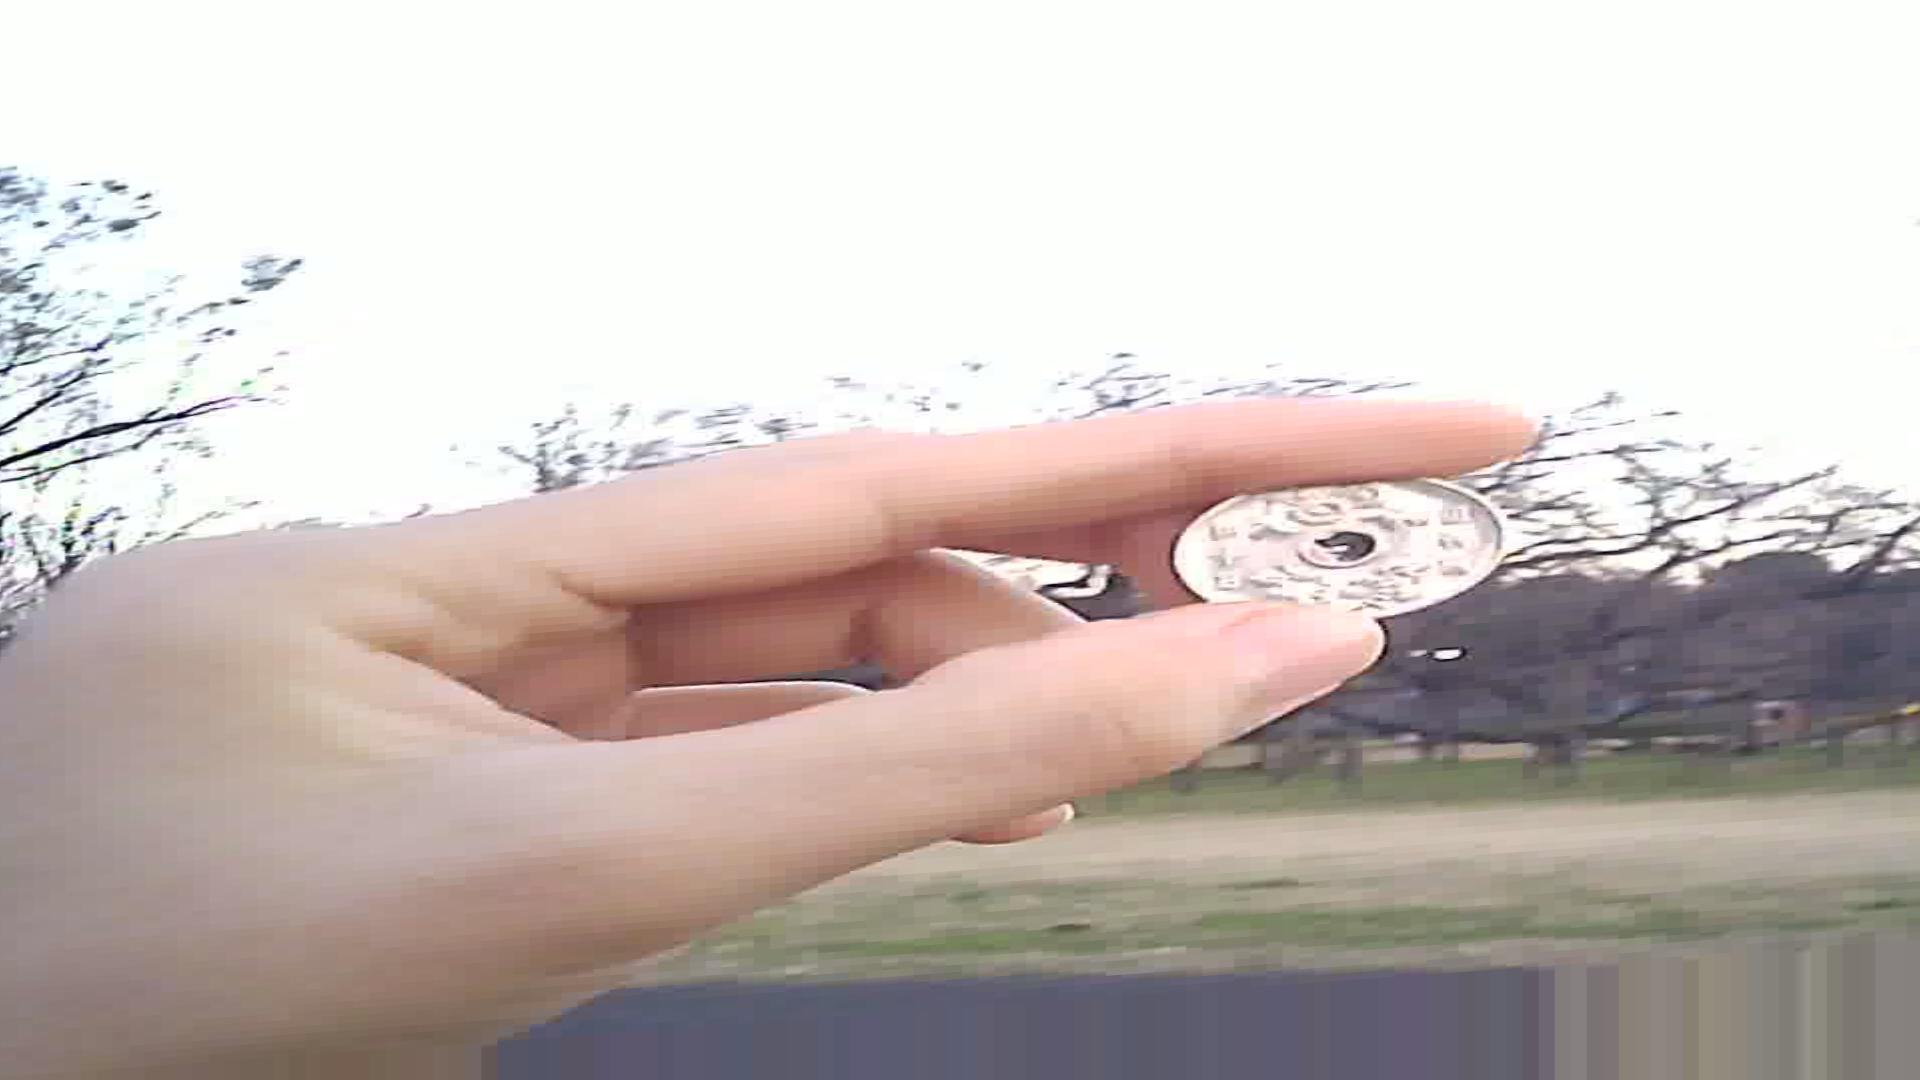50 Yen: (1163, 444, 1539, 622)
